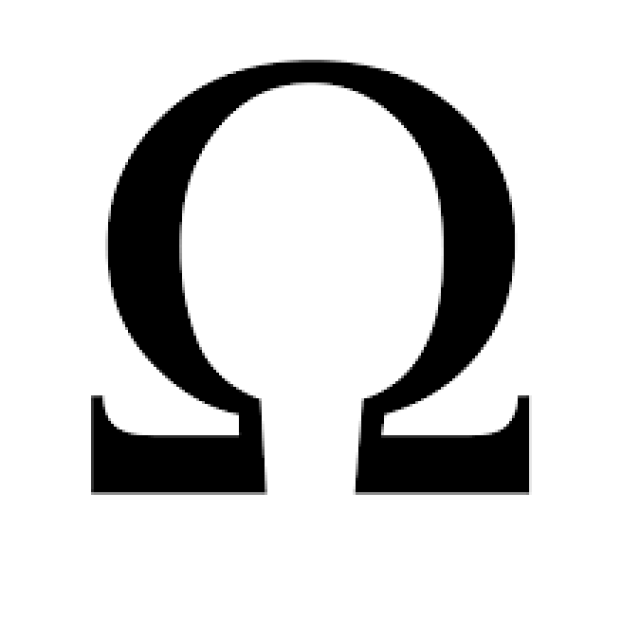ohms: (45, 11, 581, 512)
